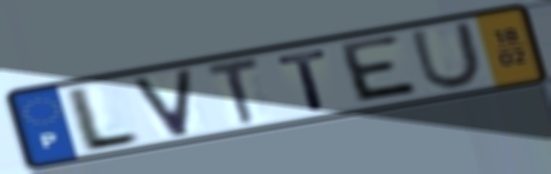E: (338, 32, 425, 106)
L: (66, 83, 143, 156)
T: (203, 54, 264, 129), (275, 46, 333, 113)
U: (407, 19, 486, 92)
V: (128, 66, 196, 140)
